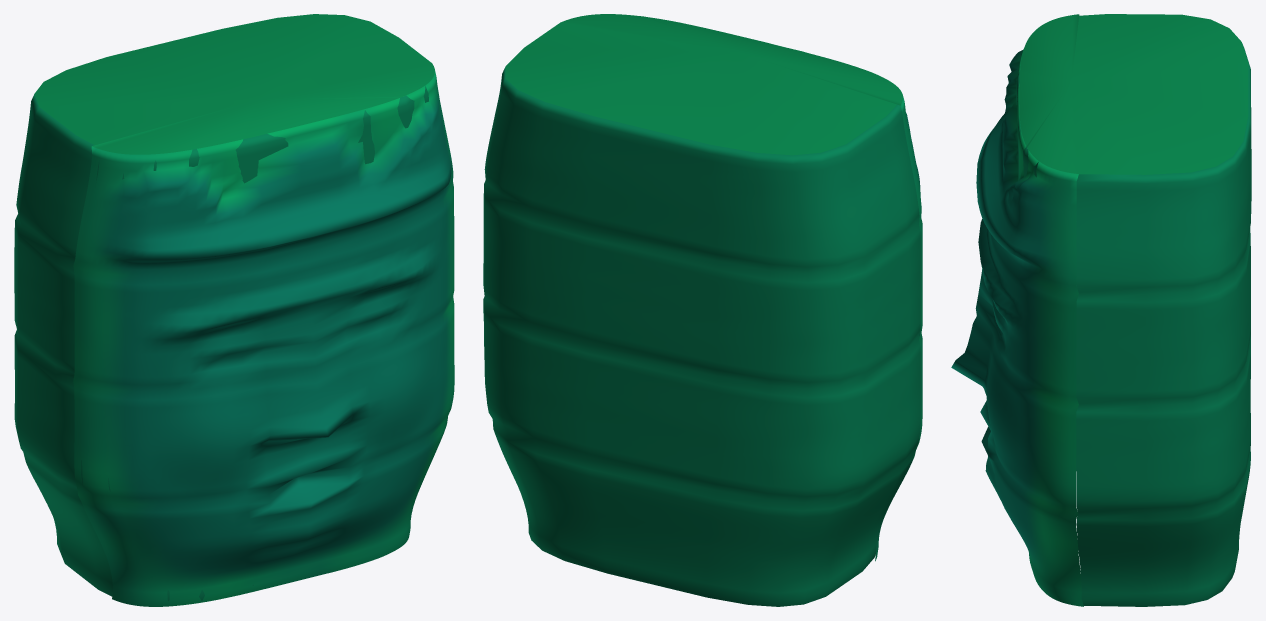
File: watcher_head_b.glb
3 views of the same model, side by side, from view 1: azimuth 30°, elevation 25°; view 2: azimuth 150°, elevation 25°; view 3: azimuth 270°, elevation 25° (orthographic). The views are drawn at different scales.
Visible parts, largest first — view 1: watcher_head_b; view 2: watcher_head_b; view 3: watcher_head_b.
Part boxes in pixels (<box>): watcher_head_b: <box>14,14,454,606</box>; watcher_head_b: <box>483,14,922,606</box>; watcher_head_b: <box>951,14,1251,606</box>.
Size of what is drawn, in the model's own units: 2.11 by 2.45 by 1.47.
